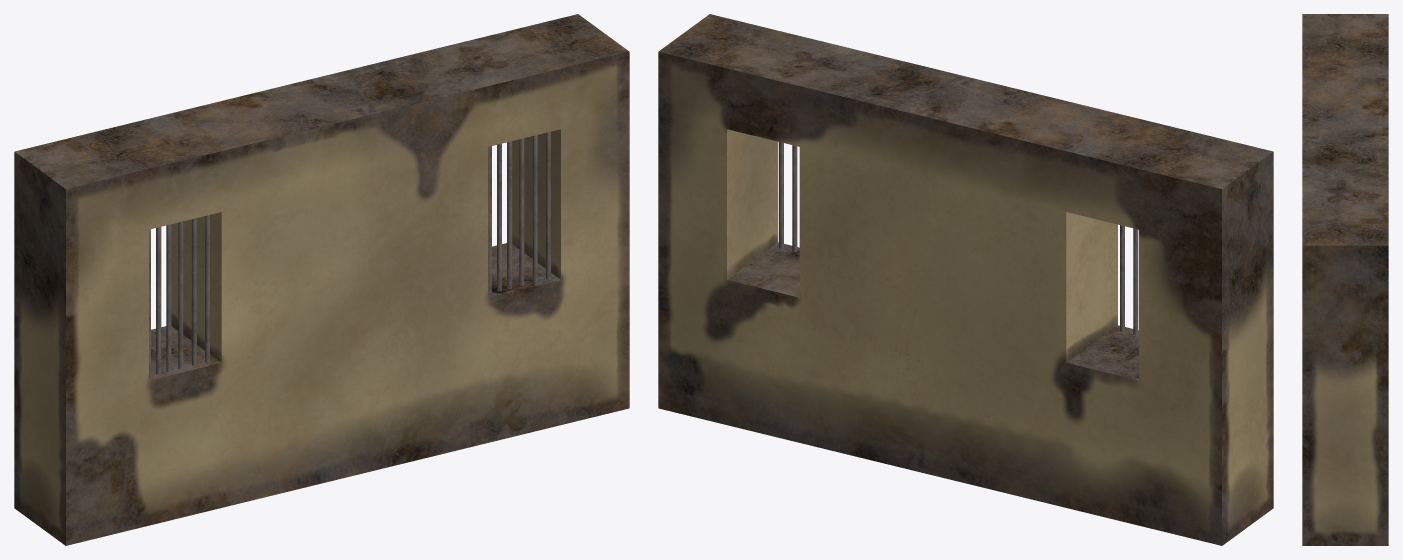
Rendered from Wall.fbx.
The picture shows the model from 3 angles, left to right: view 1: azimuth 30°, elevation 25°; view 2: azimuth 150°, elevation 25°; view 3: azimuth 270°, elevation 25°; orthographic projection. The views are drawn at different scales.
Visible parts, largest first — view 1: Box001_Box001, Cylinder002_Cylinder002, Cylinder005_Cylinder005, Cylinder006_Cylinder006, Cylinder009_Cylinder009, Cylinder011_Cylinder011, Cylinder003_Cylinder003, Cylinder008_Cylinder008, Cylinder004_Cylinder004, Cylinder010_Cylinder010, Cylinder012_Cylinder012; view 2: Box001_Box001; view 3: Box001_Box001.
Part boxes in pixels (x1=…): Box001_Box001: x1=14, y1=14, x2=629, y2=545; Cylinder002_Cylinder002: x1=178, y1=221, x2=183, y2=369; Cylinder005_Cylinder005: x1=166, y1=224, x2=171, y2=372; Cylinder006_Cylinder006: x1=156, y1=227, x2=161, y2=374; Cylinder009_Cylinder009: x1=532, y1=135, x2=537, y2=282; Cylinder011_Cylinder011: x1=507, y1=141, x2=512, y2=288; Cylinder003_Cylinder003: x1=191, y1=218, x2=196, y2=365; Cylinder008_Cylinder008: x1=519, y1=138, x2=524, y2=285; Cylinder004_Cylinder004: x1=205, y1=215, x2=209, y2=362; Cylinder010_Cylinder010: x1=546, y1=131, x2=550, y2=279; Cylinder012_Cylinder012: x1=497, y1=143, x2=501, y2=291; Box001_Box001: x1=658, y1=14, x2=1273, y2=545; Box001_Box001: x1=1302, y1=14, x2=1388, y2=545.
Bounding box in the file's own units: 93.76 × 56.71 × 14.81.
1 material, 1 textured.
